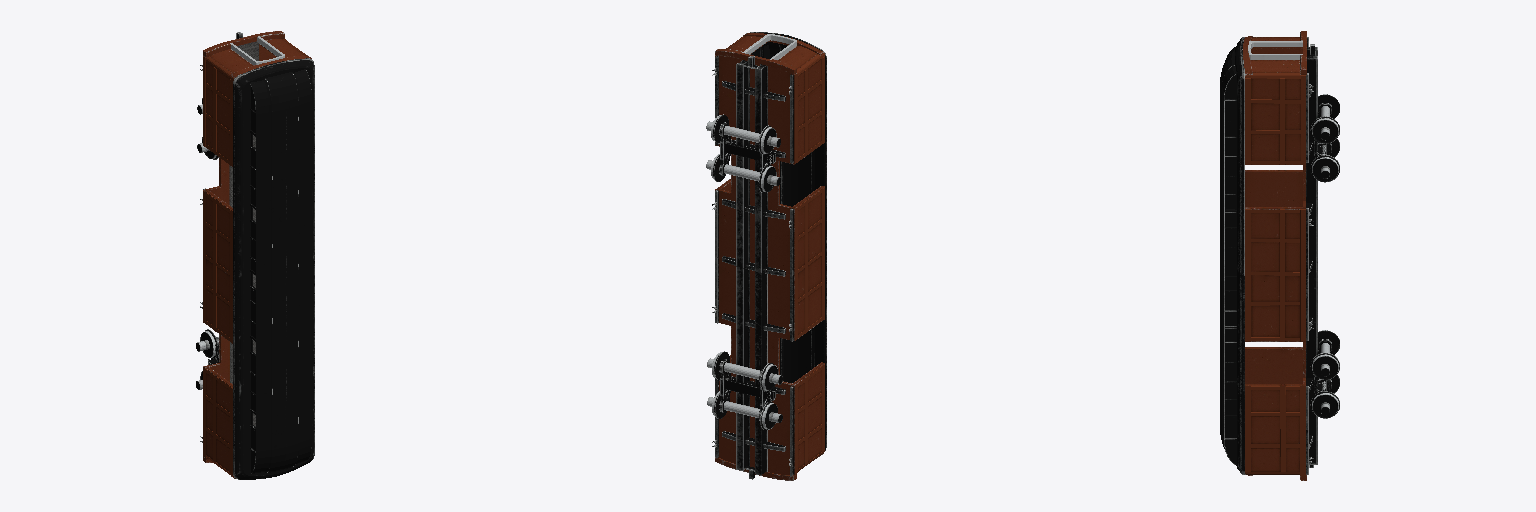
The picture shows the model from 3 angles: view 1: azimuth 30°, elevation 25°; view 2: azimuth 150°, elevation 25°; view 3: azimuth 270°, elevation 25°; orthographic projection.
Visible parts, largest first — view 1: Top_Mesh, Middle_Mesh, Details_wagon_R_Mesh; view 2: Middle_Mesh, body_low_Mesh, Top_Mesh, Details_wagon_R_Mesh, wheels.004_Mesh, wheels.003_Mesh, wheels.002_Mesh, wheels.001_Mesh, metalowe_cos_u_dolu_Mesh; view 3: Middle_Mesh, Top_Mesh, Details_wagon_L_Mesh, body_low_Mesh, wheels.003_Mesh, wheels.004_Mesh, wheels.002_Mesh, wheels.001_Mesh.
Part boxes in pixels (x1,y1,x2,y2): Top_Mesh: (233, 58, 314, 479); Middle_Mesh: (203, 31, 311, 478); Details_wagon_R_Mesh: (203, 56, 233, 477); Middle_Mesh: (715, 33, 824, 480); body_low_Mesh: (712, 56, 793, 479); Top_Mesh: (750, 32, 826, 450); Details_wagon_R_Mesh: (794, 53, 824, 474); wheels.004_Mesh: (706, 114, 780, 154); wheels.003_Mesh: (707, 351, 782, 391); wheels.002_Mesh: (706, 154, 780, 192); wheels.001_Mesh: (707, 391, 782, 429); metalowe_cos_u_dolu_Mesh: (719, 122, 767, 420); Middle_Mesh: (1243, 31, 1306, 480); Top_Mesh: (1220, 37, 1244, 474); Details_wagon_L_Mesh: (1245, 73, 1305, 475); body_low_Mesh: (1306, 37, 1325, 474); wheels.003_Mesh: (1310, 330, 1339, 379); wheels.004_Mesh: (1310, 94, 1339, 143); wheels.002_Mesh: (1310, 139, 1339, 182); wheels.001_Mesh: (1310, 375, 1339, 418).
Size of the model in its own units: 2.64 by 13.19 by 3.42.
4 materials, 4 textured.